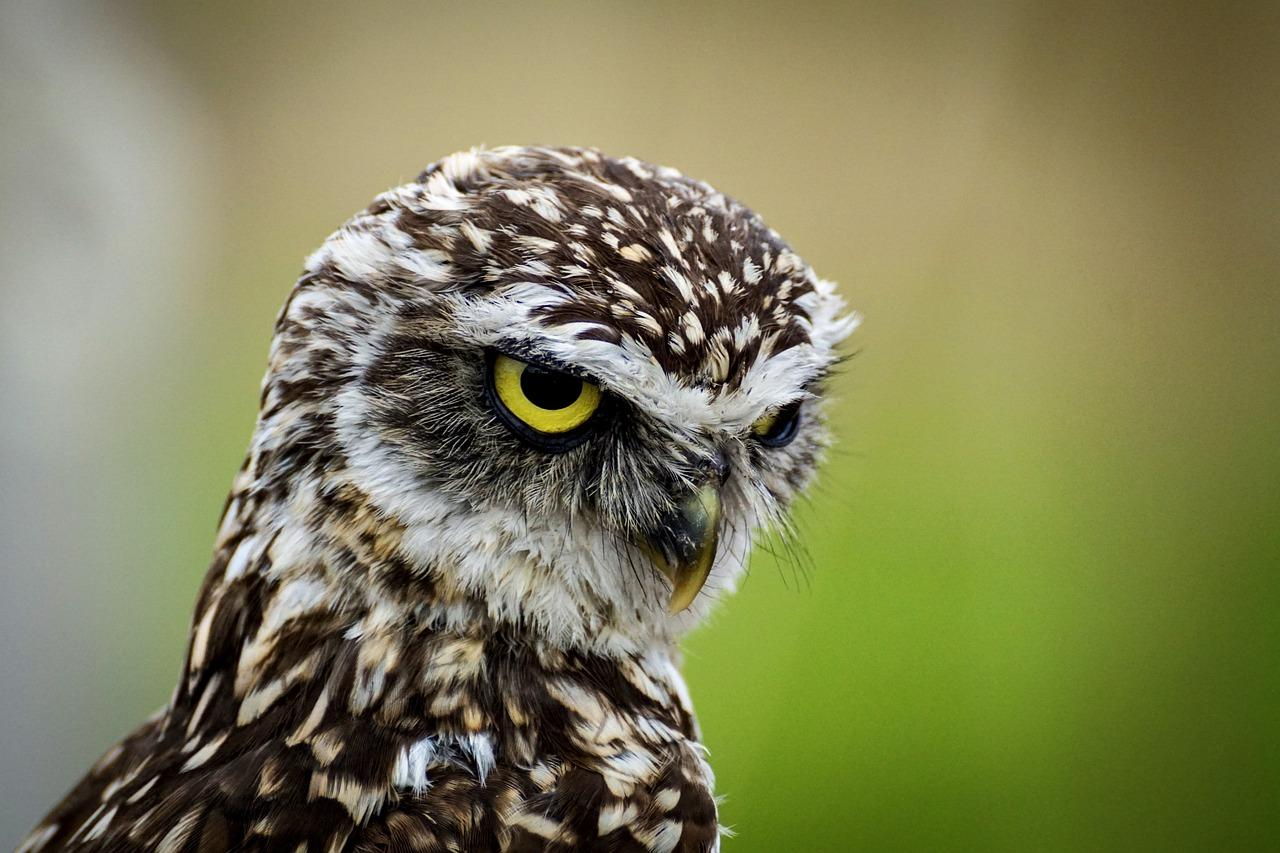bird: (17, 146, 857, 852)
